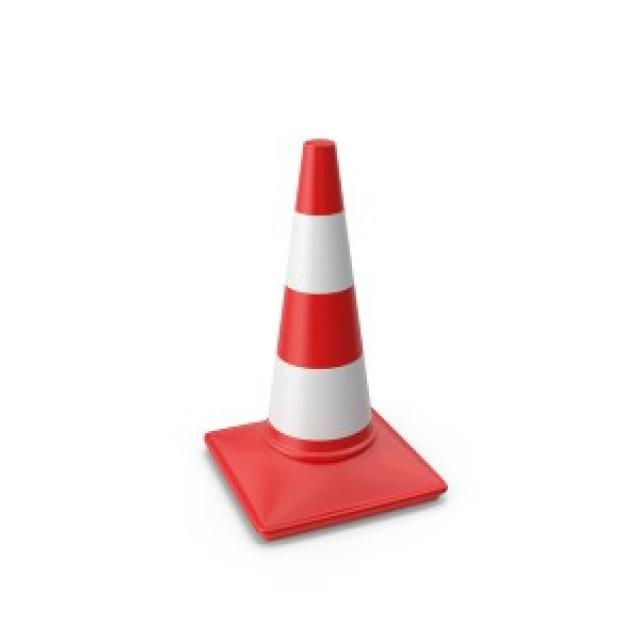cone: (202, 137, 447, 540)
